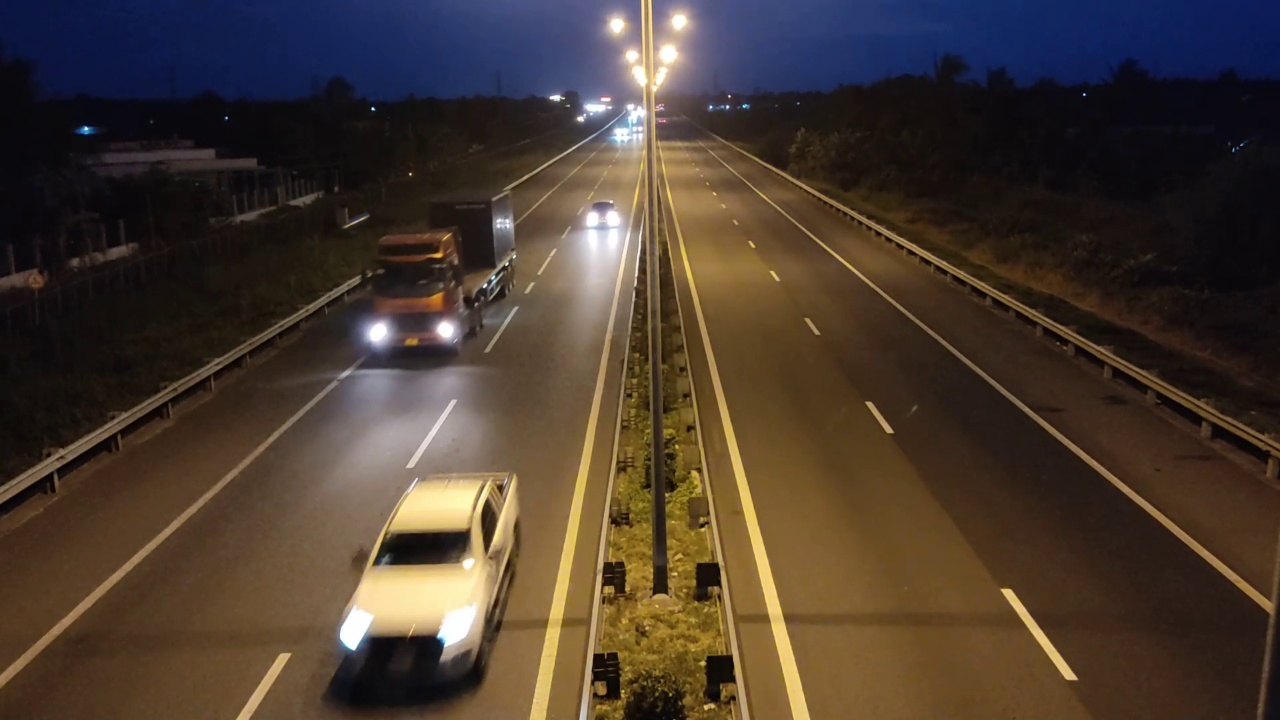car: (330, 469, 521, 697)
truck: (360, 189, 517, 360)
